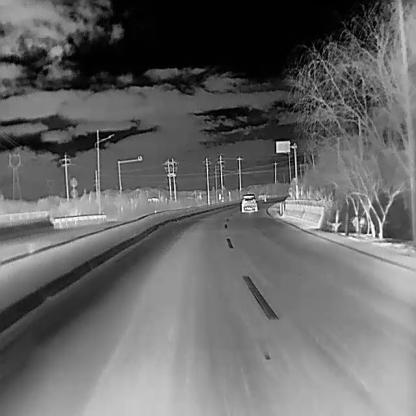car: (240, 194, 257, 212)
